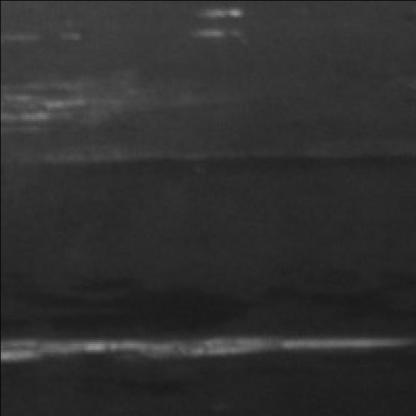scratches: (4, 318, 410, 364)
